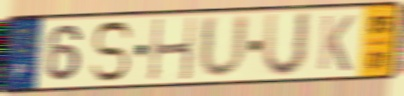6: (46, 23, 84, 84)
H: (148, 15, 197, 83)
K: (316, 13, 357, 74)
S: (88, 19, 135, 84)
U: (197, 12, 251, 82), (260, 10, 314, 79)
